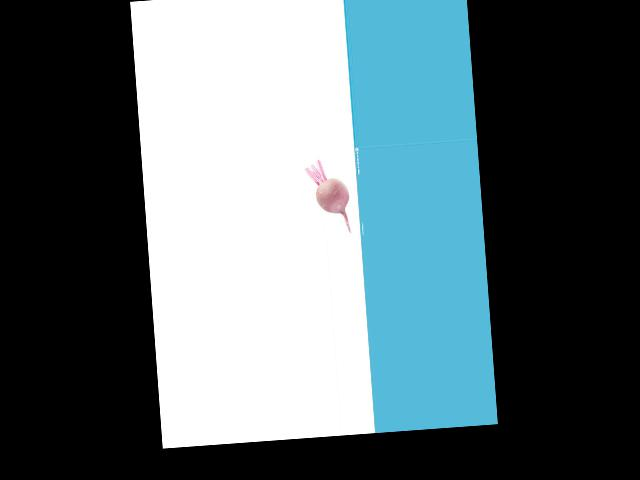beet: (304, 158, 351, 235)
